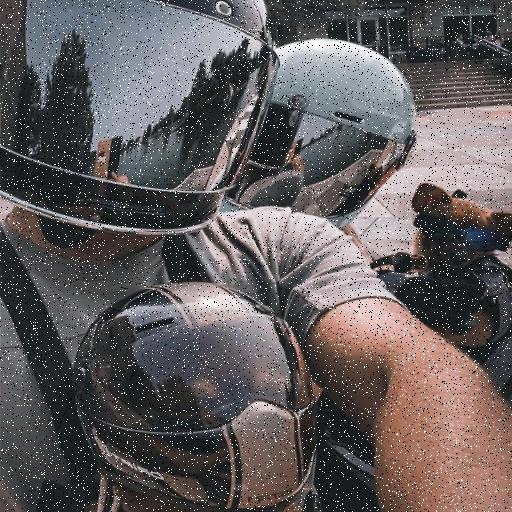Helmet: (74, 284, 319, 511), (229, 40, 415, 225)
